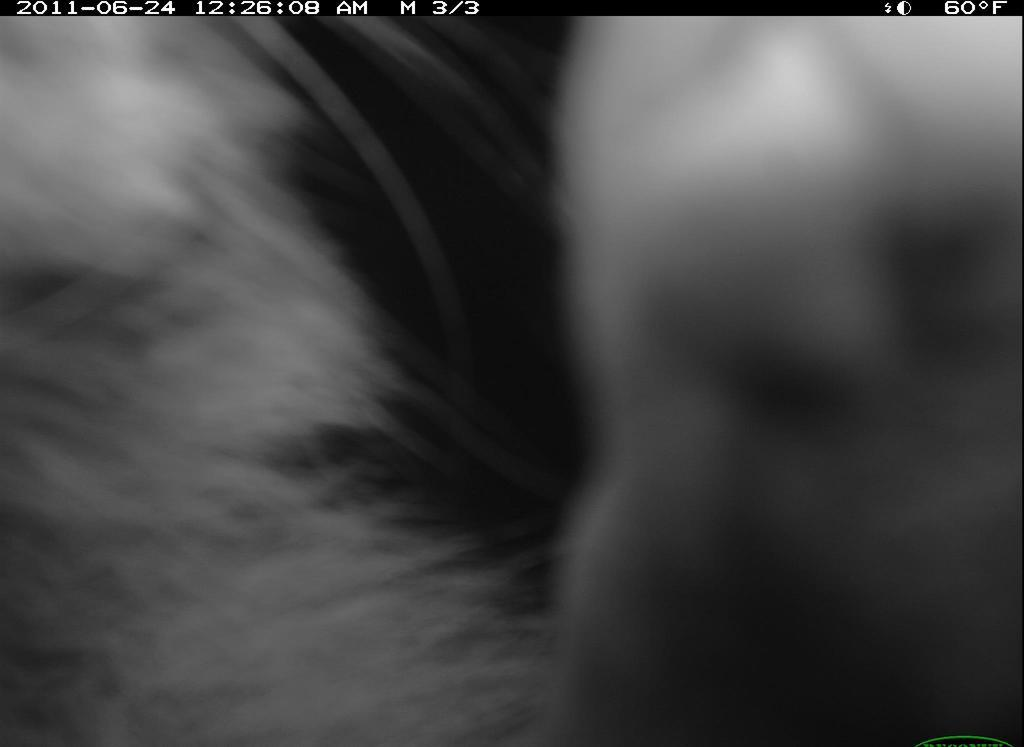raccoon: (1, 15, 553, 737)
